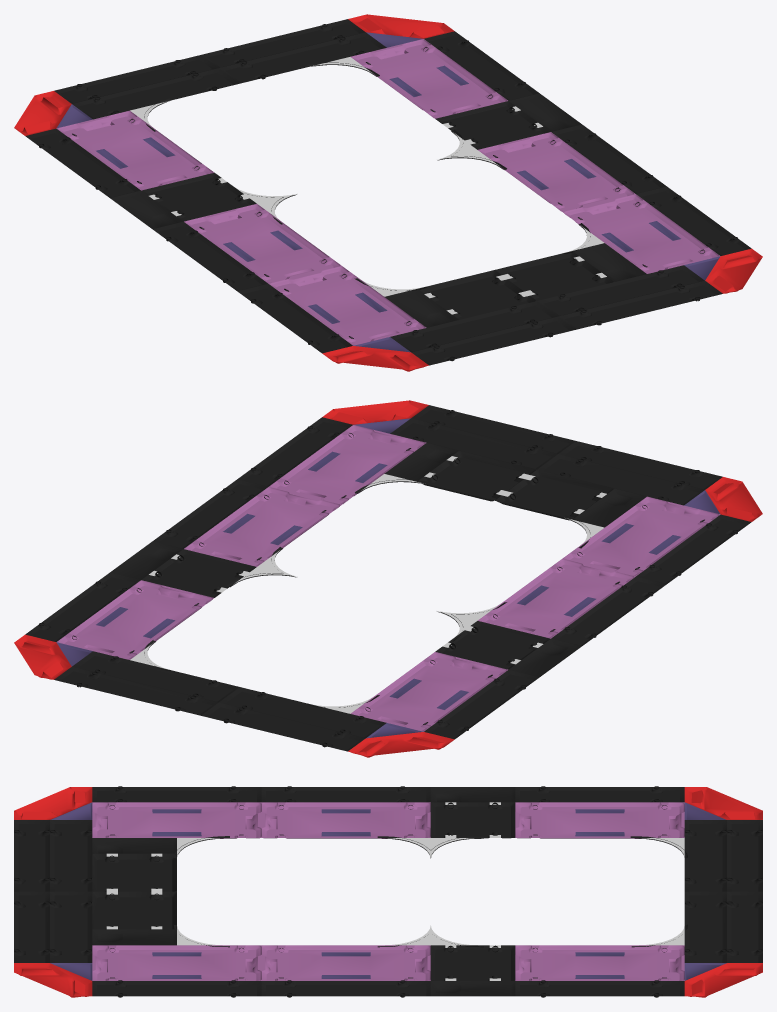
File: Building_B_Room_A_Ceiling_B.fbx
3 renders of one model, top to bottom at view 1: azimuth 30°, elevation 25°; view 2: azimuth 150°, elevation 25°; view 3: azimuth 270°, elevation 25°, orthographic.
Parts seen in each view (by area): view 1: Geom_Building_B_Room_A_Ceiling_B_LOD00; view 2: Geom_Building_B_Room_A_Ceiling_B_LOD00; view 3: Geom_Building_B_Room_A_Ceiling_B_LOD00.
Boxes of the visible parts, left/top/right/bottom form: Geom_Building_B_Room_A_Ceiling_B_LOD00: left=14, top=14, right=762, bottom=371; Geom_Building_B_Room_A_Ceiling_B_LOD00: left=14, top=400, right=762, bottom=757; Geom_Building_B_Room_A_Ceiling_B_LOD00: left=14, top=786, right=762, bottom=997.
Size of what is drawn, in the model's own units: 2340 by 38.9 by 3540.
